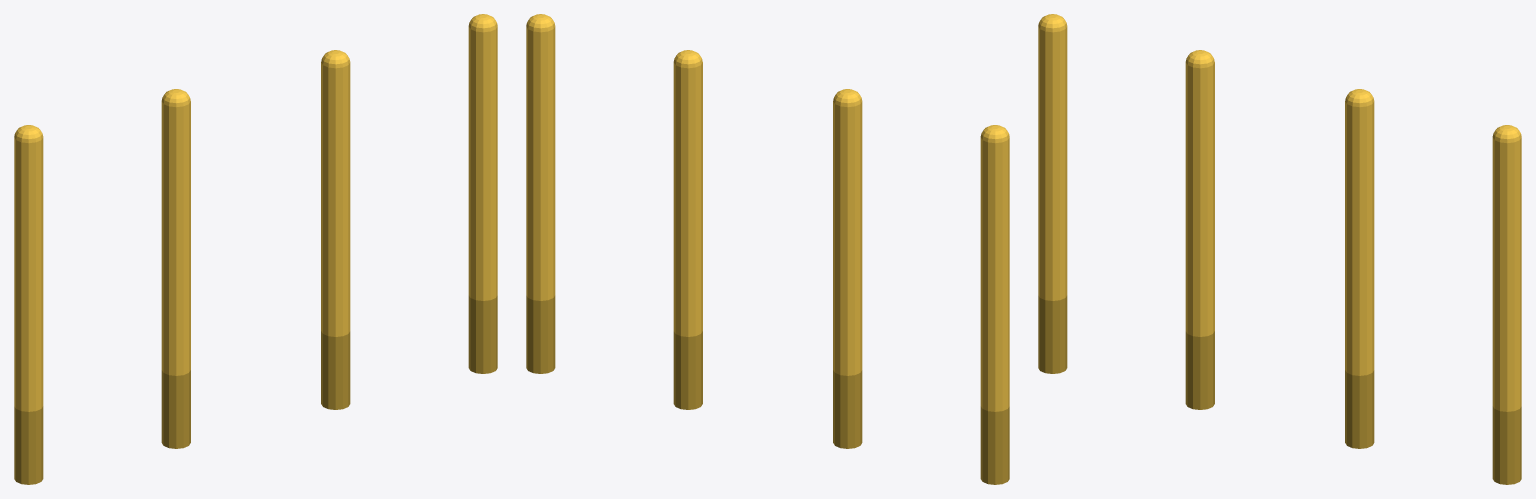
File: PoleRow.fbx
3 renders of one model, left to right at view 1: azimuth 30°, elevation 25°; view 2: azimuth 150°, elevation 25°; view 3: azimuth 330°, elevation 25°, orthographic.
Parts seen in each view (by area): view 1: PoleRow; view 2: PoleRow; view 3: PoleRow.
Part boxes in pixels (x1=…): PoleRow: x1=14, y1=14, x2=497, y2=484; PoleRow: x1=526, y1=14, x2=1009, y2=484; PoleRow: x1=1038, y1=14, x2=1521, y2=484.
Bounding box in the file's own units: 639 × 447 × 33.69.
